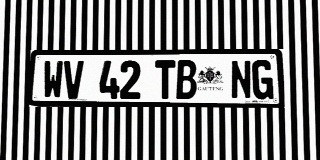2: (120, 60, 140, 99)
4: (99, 60, 119, 99)
B: (176, 60, 197, 99)
G: (252, 60, 273, 99)
N: (230, 60, 252, 99)
T: (155, 60, 175, 99)
V: (63, 61, 84, 99)
W: (43, 61, 63, 99)
